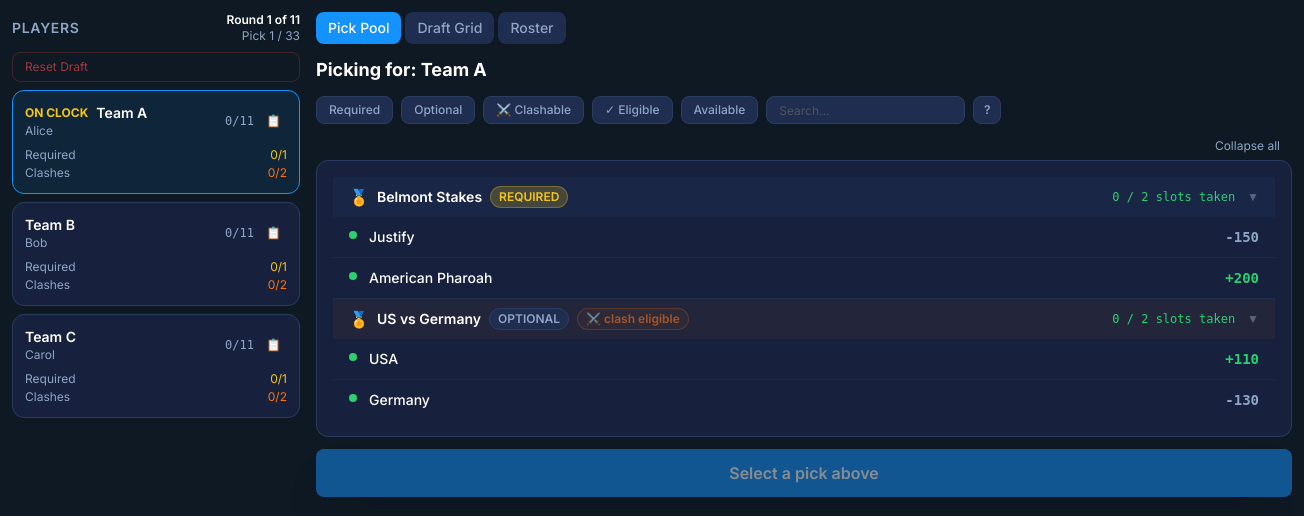
Test: DraftBoard › deselects option when clicked again
Step 1. Click the text "Justify" → (392, 237), box [369,227,415,247]
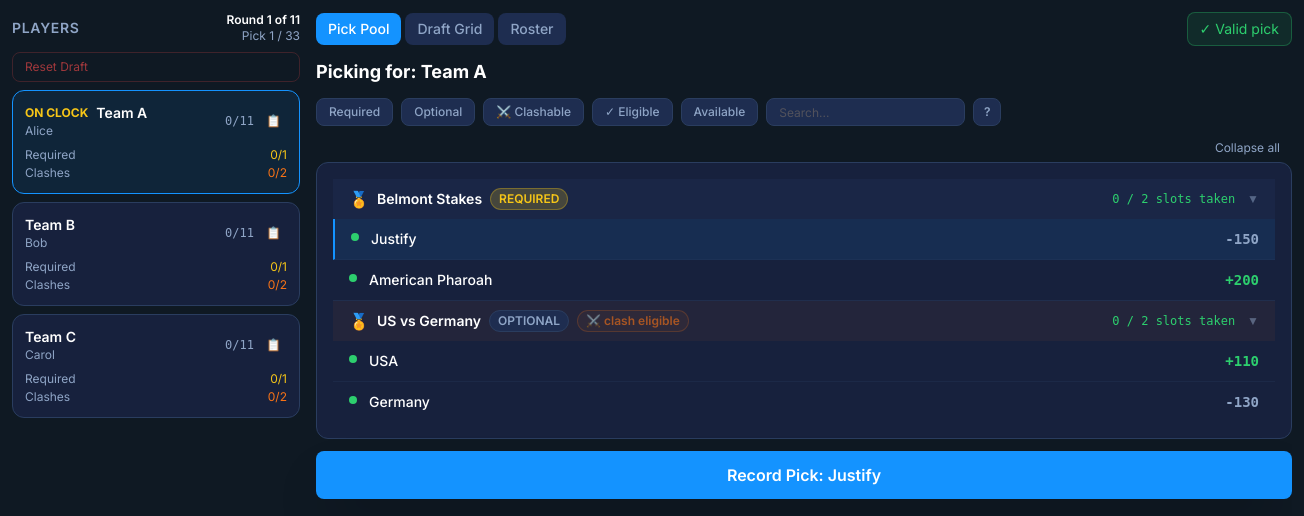
Check: the text "✓ Valid pick" is shown, box [1187,12,1292,46]
Step 2. Click the text "Justify" → (394, 239), box [371,229,417,249]
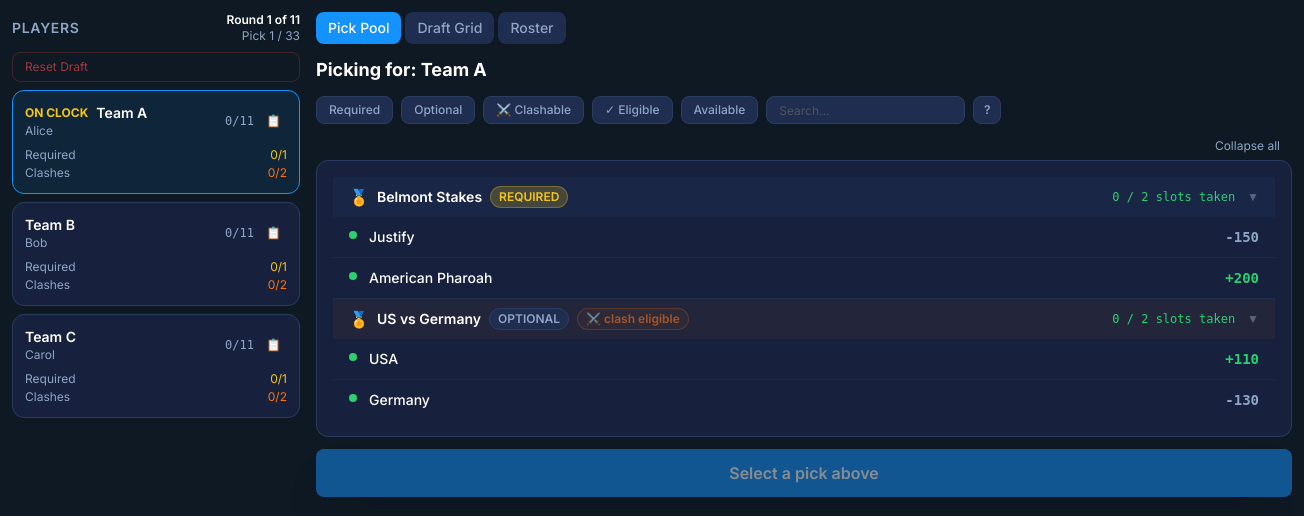
Check: the text "Valid pick" is gone
